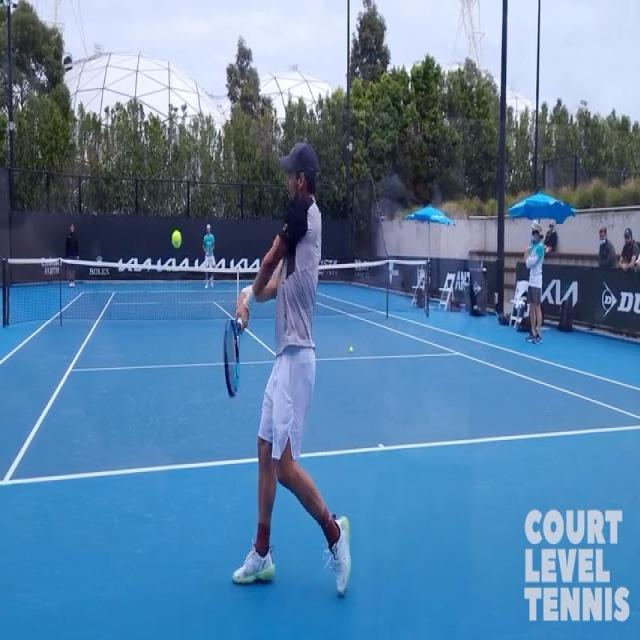backhand-stroke: (214, 144, 357, 618)
